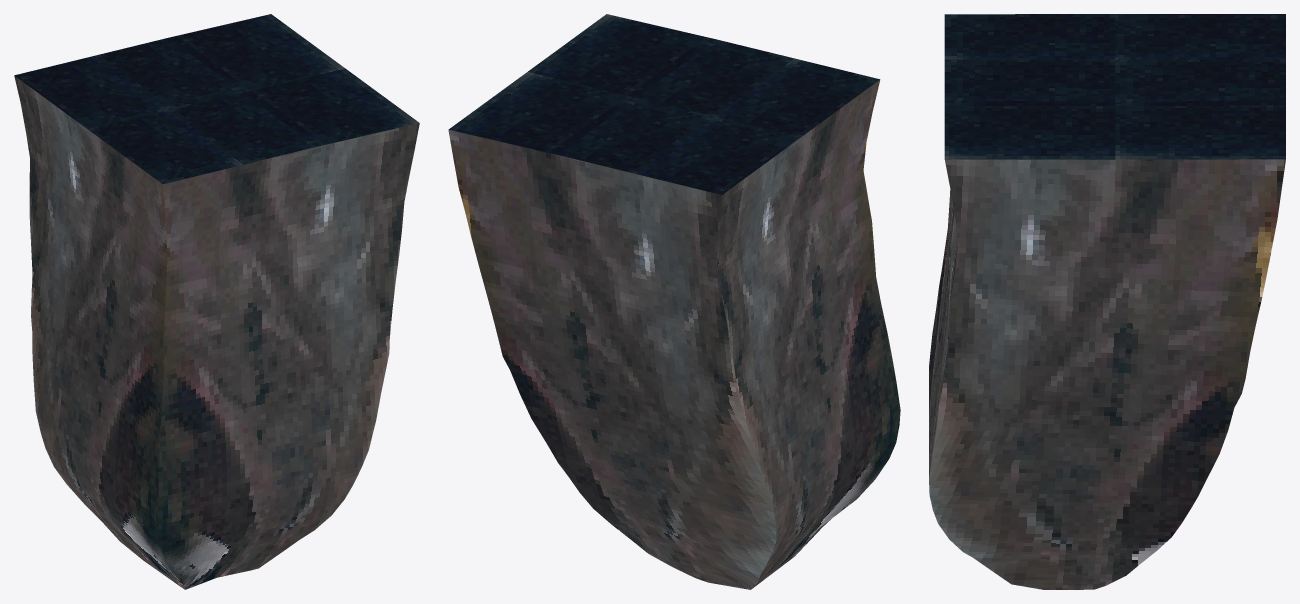
3 renders of one model, left to right at view 1: azimuth 30°, elevation 25°; view 2: azimuth 150°, elevation 25°; view 3: azimuth 270°, elevation 25°, orthographic. The views are drawn at different scales.
Visible parts, largest first — view 1: Splice_1; view 2: Splice_1; view 3: Splice_1.
Part boxes in pixels (x1=…): Splice_1: x1=14, y1=14, x2=419, y2=589; Splice_1: x1=448, y1=14, x2=900, y2=589; Splice_1: x1=929, y1=14, x2=1285, y2=589.
Bounding box in the file's own units: 0.9435 × 1.5 × 0.9444.
1 material, 1 textured.
